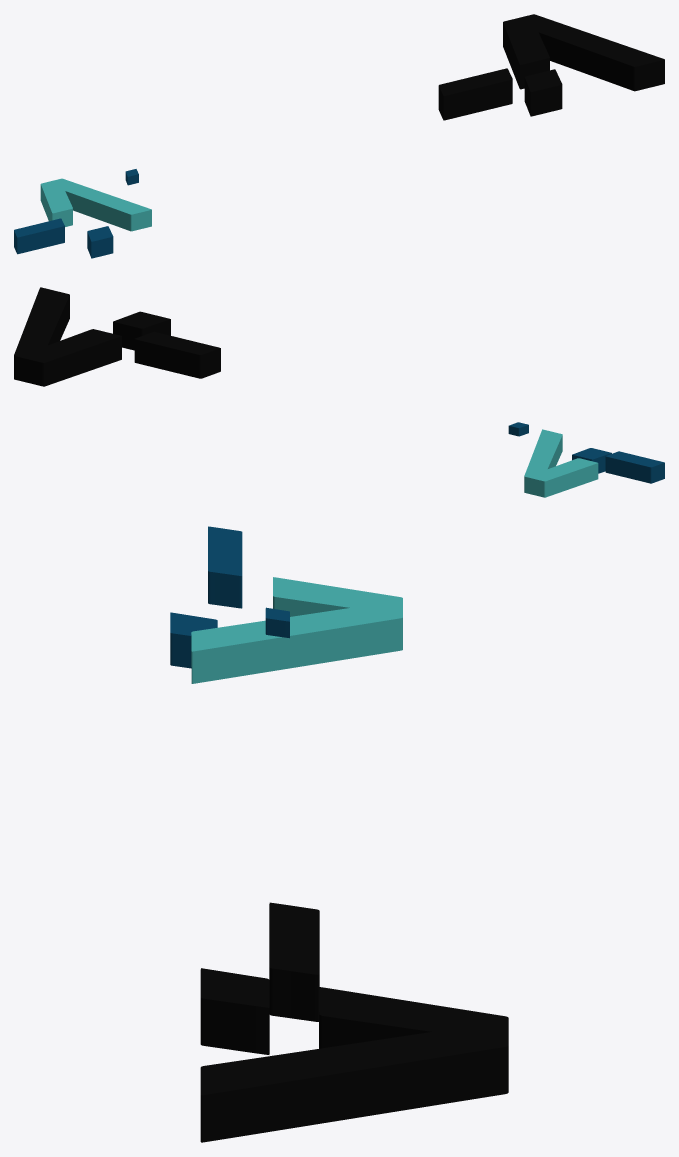
The model's file is Arsenal2.glb.
3 renders of one model, top to bottom at view 1: azimuth 30°, elevation 25°; view 2: azimuth 150°, elevation 25°; view 3: azimuth 270°, elevation 25°, orthographic. The views are drawn at different scales.
Visible parts, largest first — view 1: Curve.003, Curve, Curve.004, Curve.005, Curve.001, Curve.002; view 2: Curve.003, Curve, Curve.004, Curve.001, Curve.005, Curve.002; view 3: Curve.003, Curve, Curve.004, Curve.005, Curve.001, Curve.002.
Part boxes in pixels (x1=…): Curve.003: x1=503, y1=14, x2=664, y2=91; Curve: x1=40, y1=178, x2=151, y2=231; Curve.004: x1=438, y1=68, x2=512, y2=120; Curve.005: x1=524, y1=69, x2=562, y2=116; Curve.001: x1=14, y1=218, x2=64, y2=254; Curve.002: x1=87, y1=226, x2=113, y2=258; Curve.003: x1=14, y1=287, x2=121, y2=386; Curve: x1=524, y1=429, x2=598, y2=497; Curve.004: x1=134, y1=331, x2=220, y2=378; Curve.001: x1=605, y1=451, x2=664, y2=483; Curve.005: x1=113, y1=311, x2=170, y2=350; Curve.002: x1=572, y1=448, x2=611, y2=473; Curve.003: x1=200, y1=987, x2=508, y2=1142; Curve: x1=191, y1=577, x2=402, y2=683; Curve.004: x1=269, y1=902, x2=319, y2=1021; Curve.005: x1=200, y1=968, x2=269, y2=1054; Curve.001: x1=208, y1=526, x2=242, y2=608; Curve.002: x1=170, y1=612, x2=217, y2=668.
Bounding box in the file's own units: 26.67 × 2.03 × 6.24.
